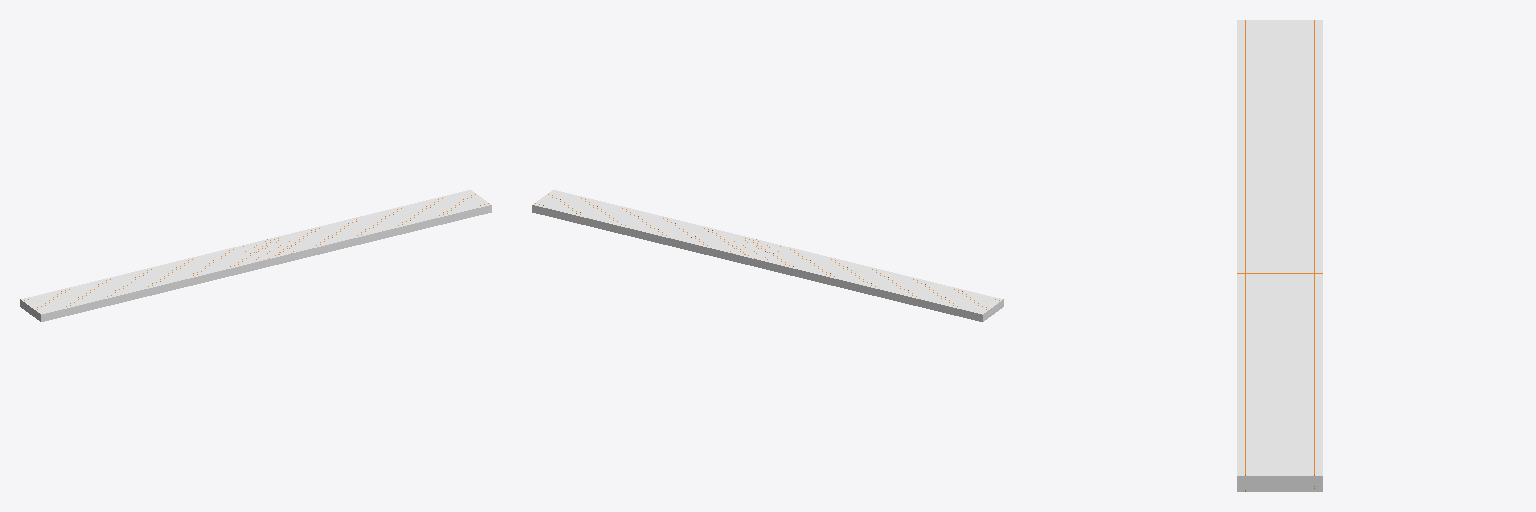
URDF robot description (ground_skeleton):
<?xml version="1.0"?>
<robot name="ground_skeleton">
     <material name="Stripe2">
                <color rgba ="1.0 0.6 0.2 1.0"/>
            </material>
    <link name="world" />
    <link name="ground_link">
        <inertial>
            <mass value="1.0" />
            <origin xyz="2.5 0 -1.025" rpy="0 0 0"/>
            <inertia ixx="1.0" ixy="0" ixz="0" iyy="1.0" iyz="0" izz="1.0" />
        </inertial>
        <visual>
            <origin xyz="0 0 -1.025" rpy="0 0 0" />
            <geometry>
                <box size="125 10 2.05" />
            </geometry>
            <material name="Carpet">
                <color rgba ="0.985 0.985 0.985 1.0"/>
            </material>
        </visual>

        <visual>
            <origin xyz="-2 0 -1.025" rpy="0 0 0" />
            <geometry>
                <box size="0.025 10 2.0525" />
            </geometry>
            <material name="Stripe2" />
        </visual>

        <visual>
            <origin xyz="-1 0 -1.025" rpy="0 0 0" />
            <geometry>
                <box size="0.025 10 2.0525" />
            </geometry>
            <material name="Stripe2" />
        </visual>

        <visual>
            <origin xyz="0 0 -1.025" rpy="0 0 0" />
            <geometry>
                <box size="0.025 10 2.0525" />
            </geometry>
            <material name="Stripe2" />
        </visual>

        <visual>
            <origin xyz="1 0 -1.025" rpy="0 0 0" />
            <geometry>
                <box size="0.025 10 2.0525" />
            </geometry>
            <material name="Stripe2" />
        </visual>

        <visual>
            <origin xyz="2 0 -1.025" rpy="0 0 0" />
            <geometry>
                <box size="0.025 10 2.0525" />
            </geometry>
            <material name="Stripe2" />
        </visual>

        <visual>
            <origin xyz="3 0 -1.025" rpy="0 0 0" />
            <geometry>
                <box size="0.025 10 2.0525" />
            </geometry>
            <material name="Stripe2" />
        </visual>

        <visual>
            <origin xyz="3 0 -1.025" rpy="0 0 0" />
            <geometry>
                <box size="0.025 10 2.0525" />
            </geometry>
            <material name="Stripe2" />
        </visual>

        <visual>
            <origin xyz="4 0 -1.025" rpy="0 0 0" />
            <geometry>
                <box size="0.025 10 2.0525" />
            </geometry>
            <material name="Stripe2" />
        </visual>

        <visual>
            <origin xyz="5 0 -1.025" rpy="0 0 0" />
            <geometry>
                <box size="0.025 10 2.0525" />
            </geometry>
            <material name="Stripe2" />
        </visual>

        <visual>
            <origin xyz="6 0 -1.025" rpy="0 0 0" />
            <geometry>
                <box size="0.025 10 2.0525" />
            </geometry>
            <material name="Stripe2" />
        </visual>

        <visual>
            <origin xyz="7 0 -1.025" rpy="0 0 0" />
            <geometry>
                <box size="0.025 10 2.0525" />
            </geometry>
            <material name="Stripe2" />
        </visual>

        <visual>
            <origin xyz="8 0 -1.025" rpy="0 0 0" />
            <geometry>
                <box size="0.025 10 2.0525" />
            </geometry>
            <material name="Stripe2" />
        </visual>

        <visual>
            <origin xyz="9 0 -1.025" rpy="0 0 0" />
            <geometry>
                <box size="0.025 10 2.0525" />
            </geometry>
            <material name="Stripe2" />
        </visual>

        <visual>
            <origin xyz="10 0 -1.025" rpy="0 0 0" />
            <geometry>
                <box size="0.025 10 2.0525" />
            </geometry>
            <material name="Stripe2" />
        </visual>



        <visual>
            <origin xyz="0 0 -1.025" rpy="0 0 0" />
            <geometry>
                <box size= "125 0.025 2.0525" />
            </geometry>
            <material name="Stripe2" />
        </visual>

        <visual>
            <origin xyz="0 1 -1.025" rpy="0 0 0" />
            <geometry>
                <box size= "125 0.025 2.0525" />
            </geometry>
            <material name="Stripe2" />
        </visual>

        <visual>
            <origin xyz="0 2 -1.025" rpy="0 0 0" />
            <geometry>
                <box size= "125 0.025 2.0525" />
            </geometry>
            <material name="Stripe2" />
        </visual>

        <visual>
            <origin xyz="0 3 -1.025" rpy="0 0 0" />
            <geometry>
                <box size= "125 0.025 2.0525" />
            </geometry>
            <material name="Stripe2" />
        </visual>

        <visual>
            <origin xyz="0 4 -1.025" rpy="0 0 0" />
            <geometry>
                <box size= "125 0.025 2.0525" />
            </geometry>
            <material name="Stripe2" />
        </visual>

        <visual>
            <origin xyz="0 -1 -1.025" rpy="0 0 0" />
            <geometry>
                <box size= "125 0.025 2.0525" />
            </geometry>
            <material name="Stripe2" />
        </visual>

        <visual>
            <origin xyz="0 -2 -1.025" rpy="0 0 0" />
            <geometry>
                <box size= "125 0.025 2.0525" />
            </geometry>
            <material name="Stripe2" />
        </visual>

        <visual>
            <origin xyz="0 -3 -1.025" rpy="0 0 0" />
            <geometry>
                <box size= "125 0.025 2.0525" />
            </geometry>
            <material name="Stripe2" />
        </visual>

        <visual>
            <origin xyz="0 -4 -1.025" rpy="0 0 0" />
            <geometry>
                <box size= "125 0.025 2.0525" />
            </geometry>
            <material name="Stripe2" />
        </visual>


        <collision group="default">
            <origin xyz="0 0 -1.025"  rpy="0 0 0"/>
            <geometry>
                <box size="125 25 2.05" />
            </geometry>
        </collision>
    </link>
    <joint name="ground_joint" type="fixed">
        <origin xyz="0 0 0" rpy="0 0 0" />
        <parent link="world" />
        <child link="ground_link" />
    </joint>


</robot>

--- Render facts (derived) ---
3 views of the same robot in one strip: view 1: azimuth 30°, elevation 25°; view 2: azimuth 150°, elevation 25°; view 3: azimuth 270°, elevation 25° (orthographic).
Robot: ground_skeleton — 2 links, 1 joints (1 fixed); root link world; default pose: every joint at zero.
Visible links, largest first — view 1: ground_link; view 2: ground_link; view 3: ground_link.
Link boxes in pixels (left/top/right/bottom): ground_link: left=20, top=190, right=491, bottom=321; ground_link: left=532, top=190, right=1003, bottom=321; ground_link: left=1237, top=20, right=1322, bottom=491.
Size in the robot's own frame: 125 by 10 by 2.05 metres.
Geometry: primitives only (box / cylinder / sphere), no mesh files.